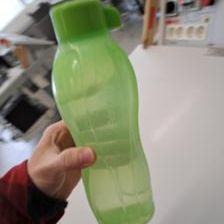bottle: (46, 2, 157, 223)
